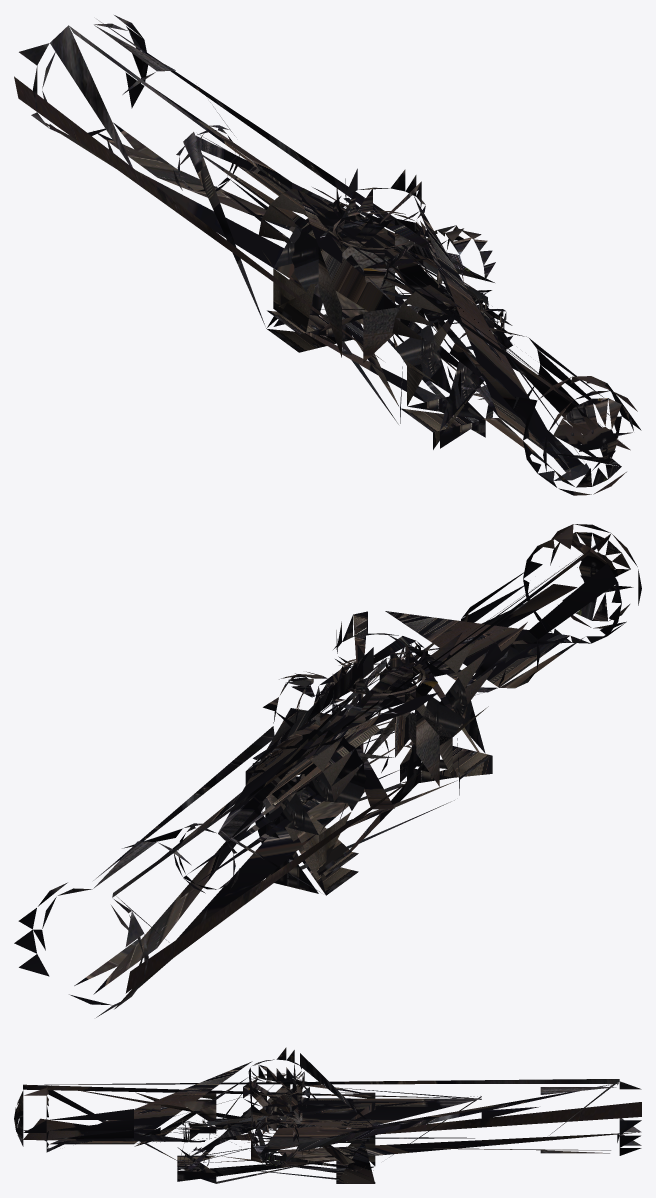
The model's file is SN_AWM300.obj.
3 views of the same model, one above another, from view 1: azimuth 30°, elevation 25°; view 2: azimuth 150°, elevation 25°; view 3: azimuth 270°, elevation 25° (orthographic). The views are drawn at different scales.
Parts seen in each view (by area): view 1: SN_AWM300; view 2: SN_AWM300; view 3: SN_AWM300.
Part boxes in pixels (bbox=[...]): SN_AWM300: bbox=[14, 15, 641, 495]; SN_AWM300: bbox=[14, 524, 641, 1017]; SN_AWM300: bbox=[14, 1047, 641, 1183].
Size of the model in its own units: 7.84 by 9.27 by 44.62.
1 material, 1 textured.
